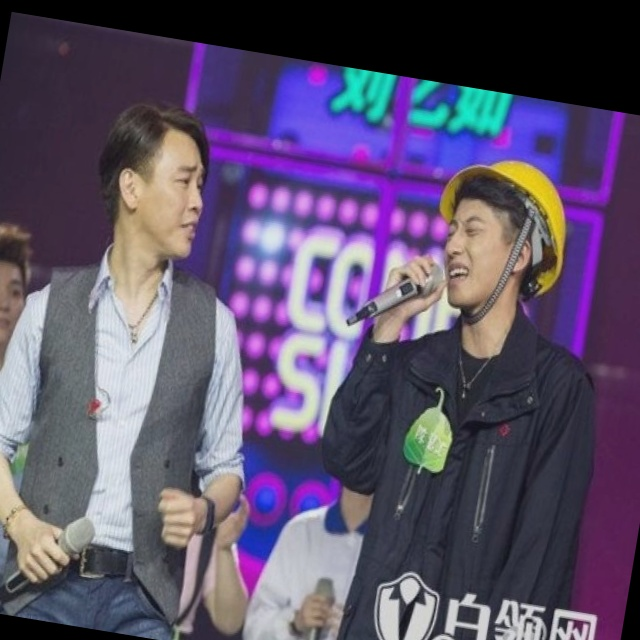Con_Casco: (420, 150, 577, 335)
Sin_Casco_Mascarrilla: (86, 94, 216, 264), (0, 221, 40, 354)
Sin_Chaleco: (0, 252, 232, 591), (371, 318, 599, 597)
